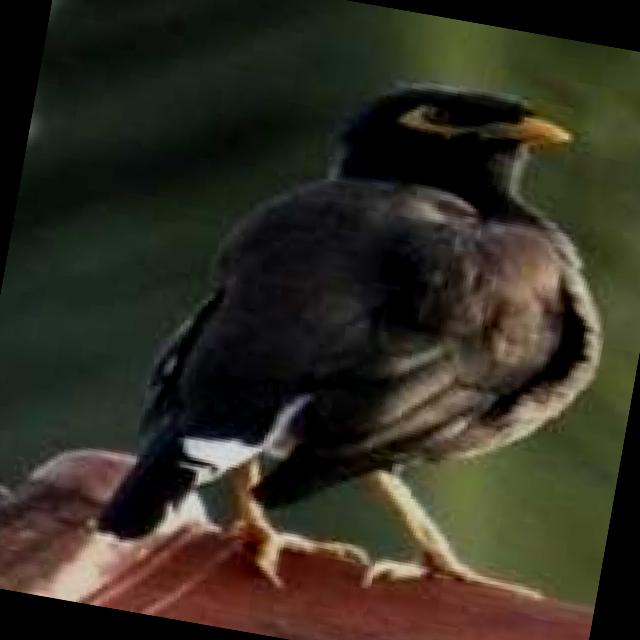bird: (111, 17, 640, 632)
